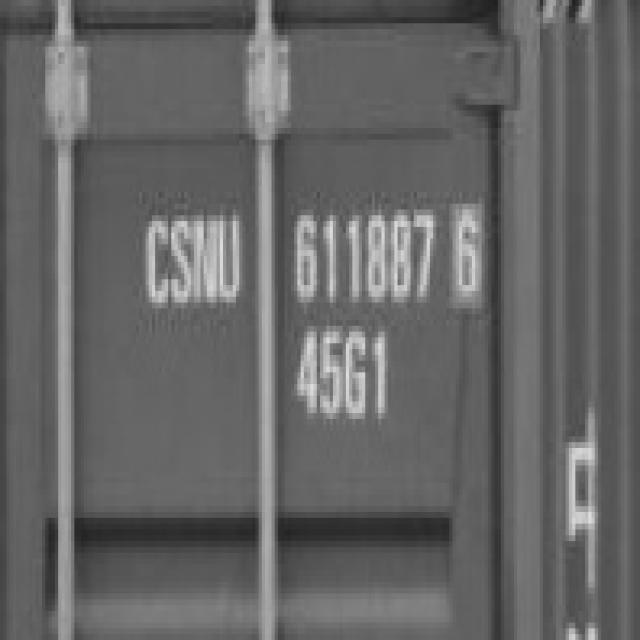dv: (444, 199, 486, 308)
owner: (139, 204, 249, 315)
serial: (287, 199, 435, 307)
size: (284, 315, 394, 431)
